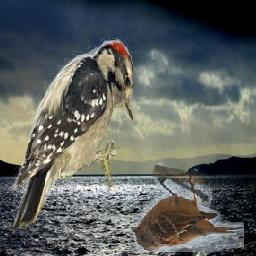Sparrow: (130, 160, 245, 253)
Woodpecker: (1, 38, 133, 237)
